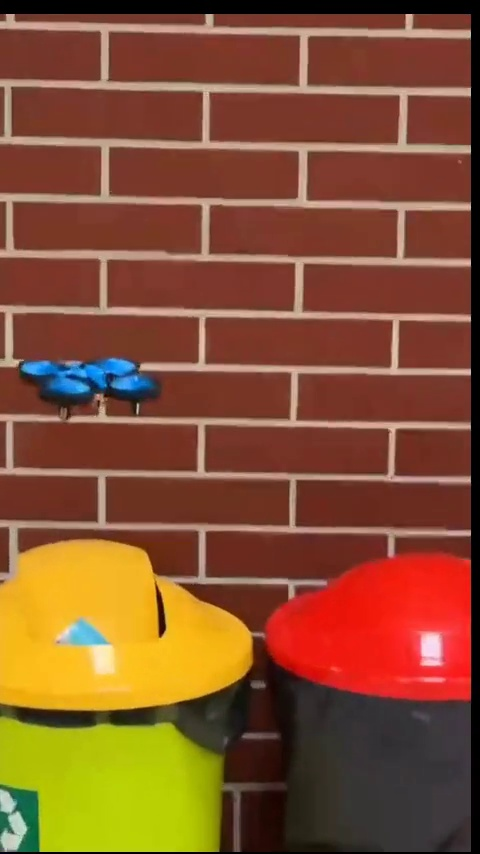drone: (15, 350, 157, 423)
